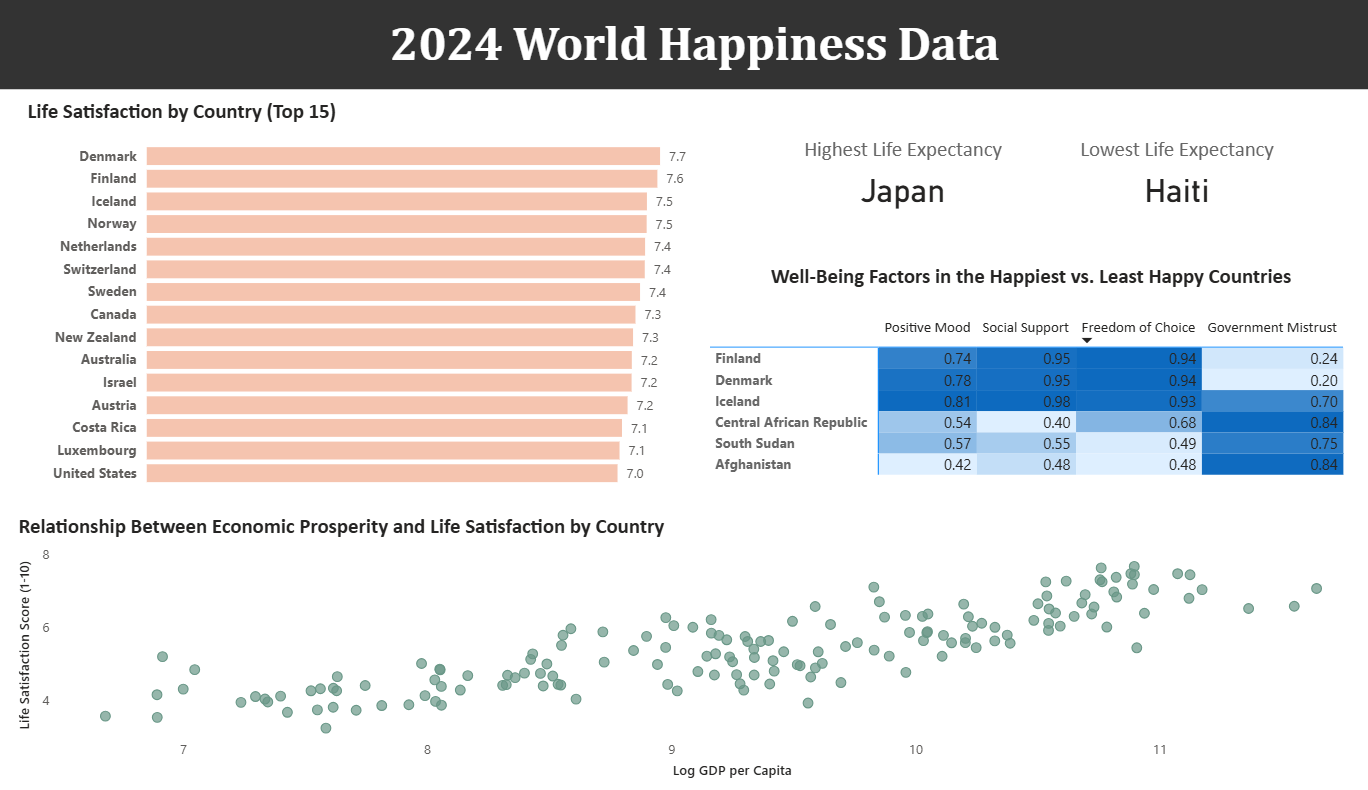

What the dashboard file says about the page in this screenshot:
{"tool":"powerbi","page":{"name":"Page 1","canvas":[1280,720],"ordinal":0},"visuals":[{"type":"textbox","box":[0,0,1280,90.2],"z":0},{"type":"clusteredBarChart","title":"Life Satisfaction by Country (Top 15)","fields":{"Category":["PowerBI.Country name"],"Y":["Avg(PowerBI.Life Ladder)"]},"box":[27.8,97.9,676,358.2],"z":1000},{"type":"scatterChart","title":"Relationship Between Economic Prosperity and Life Satisfaction by Country","fields":{"X":["Avg(PowerBI.Log GDP per capita)"],"Y":["Avg(PowerBI.Life Ladder)"],"Category":["PowerBI.Country name","PowerBI.Healthy life expectancy at birth"]},"box":[19.8,470.4,1260.4,243.3],"z":2000},{"type":"card","title":"Highest Life Expectancy","fields":{"Values":["PowerBI.Country – Highest Life Expectancy"]},"box":[676,132,285.5,70.9],"z":3000},{"type":"card","title":"Lowest Life Expectancy","fields":{"Values":["PowerBI.Country – Lowest Life Expectancy"]},"box":[938.2,132,253.2,70.9],"z":4000},{"type":"pivotTable","fields":{"Rows":["PowerBI.Country name"],"Values":["PowerBI.AVG Positive","PowerBI.AVG Social Support","PowerBI.AVG Freedom","PowerBI.AVG Corruption"]},"box":[640.1,289.1,613.2,160.7],"z":5000},{"type":"textbox","box":[684.1,240.6,499.2,36.8],"z":6000}]}

Visuals, with their boxes in screenshot pixels (x1, y1, x2, y2), scaled from the page's 1280x720 canvas onto the 1368x790 screenshot:
textbox: BBox(0, 0, 1367, 99)
"Life Satisfaction by Country (Top 15)" clusteredBarChart: BBox(30, 107, 752, 500)
"Relationship Between Economic Prosperity and Life Satisfaction by Country" scatterChart: BBox(21, 516, 1367, 783)
"Highest Life Expectancy" card: BBox(722, 145, 1028, 223)
"Lowest Life Expectancy" card: BBox(1003, 145, 1273, 223)
pivotTable - PowerBI.Country name x PowerBI.AVG Positive: BBox(684, 317, 1339, 494)
textbox: BBox(731, 264, 1265, 304)
